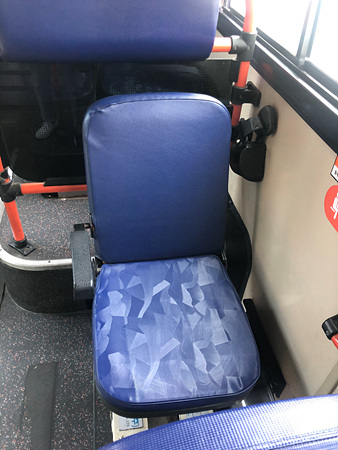seat: (84, 91, 262, 407)
